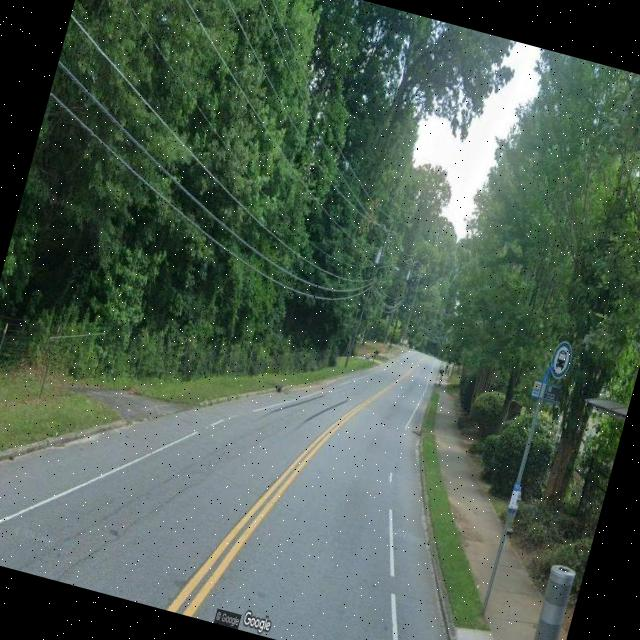trash_can: (524, 562, 577, 640)
